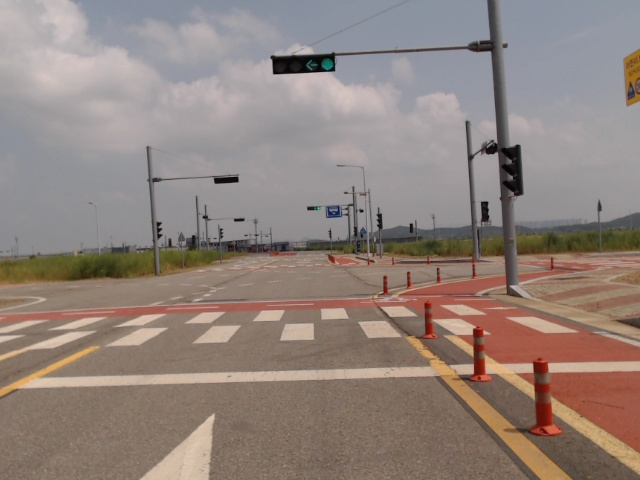all_green_4: (271, 53, 336, 76), (307, 206, 320, 211)
